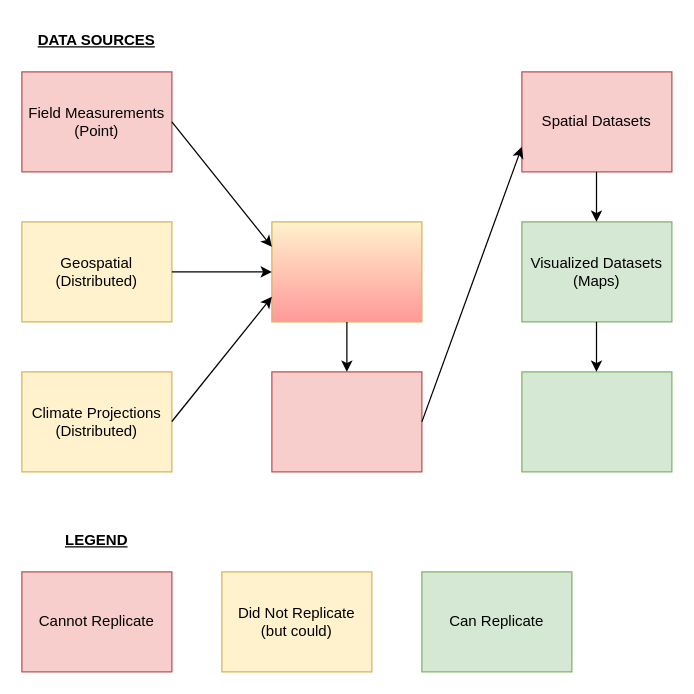
This 694x694 diagram has some shape labels left out. The shapes that lost their labels are listed below. From the top down, each one's centre as x and y in pixels, then its label:
At pixel 346 271: "Data Prep (Resampling, Correction, etc)".
At pixel 346 421: "Data Driven Models (SVM, RF, GBDT)".
At pixel 596 421: "Publication Figures".
